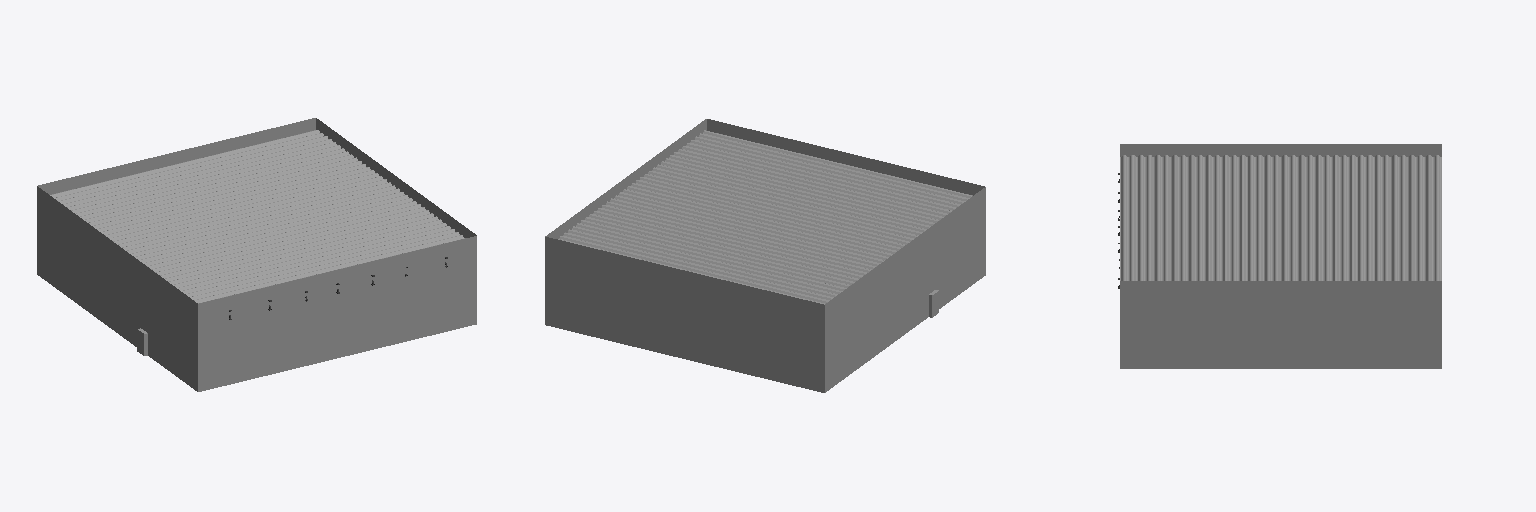
Rendered from warehouse1.obj.
The picture shows the model from 3 angles: view 1: azimuth 30°, elevation 25°; view 2: azimuth 150°, elevation 25°; view 3: azimuth 270°, elevation 25°; orthographic projection.
Visible parts, largest first — view 1: walls_Plane.002, roof_Plane.001; view 2: walls_Plane.002, roof_Plane.001; view 3: roof_Plane.001, walls_Plane.002.
Part boxes in pixels (x1,y1,x2,y2): walls_Plane.002: (37,118,476,391); roof_Plane.001: (50,130,464,303); walls_Plane.002: (545,119,985,392); roof_Plane.001: (558,130,972,304); roof_Plane.001: (1120,155,1441,280); walls_Plane.002: (1120,144,1441,368).
Bounding box in the file's own units: 46.89 × 14.08 × 46.67.